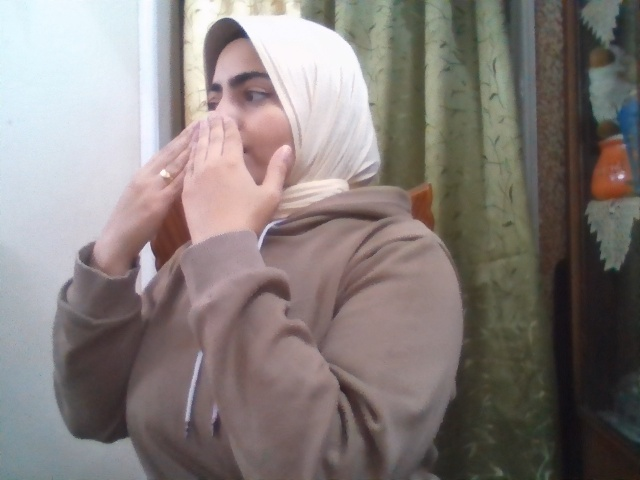thanks: (94, 115, 293, 249)
